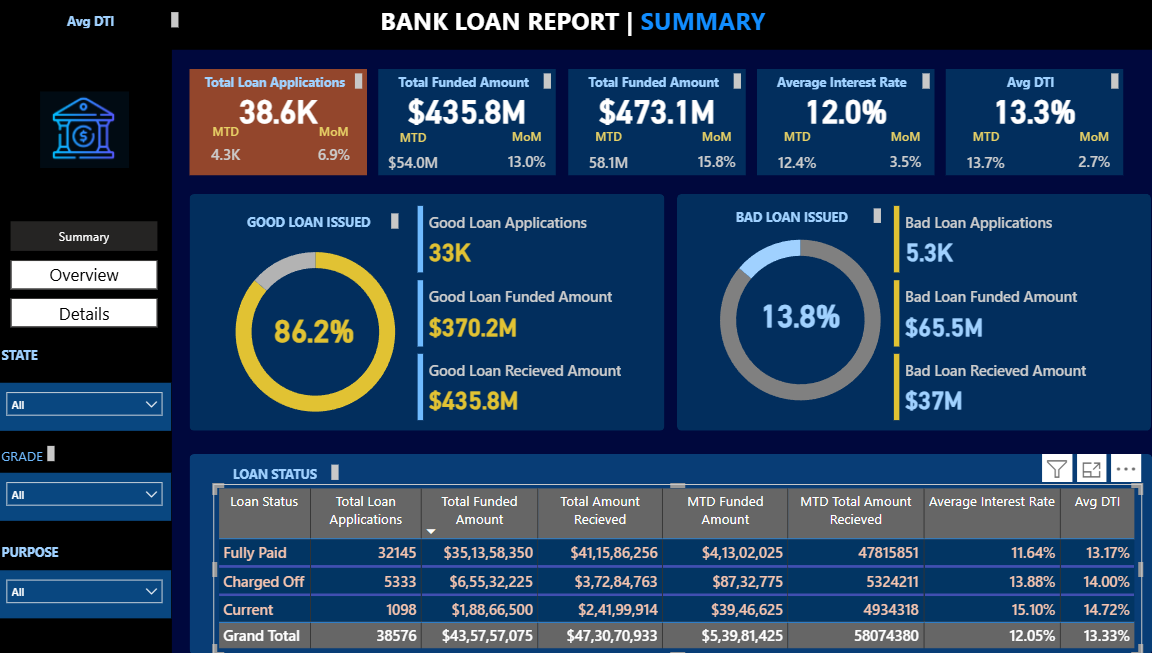

This screenshot's page, from the dashboard's own definition file:
{"tool":"powerbi","page":{"name":"Summary","canvas":[1280,720],"ordinal":0},"visuals":[{"type":"shape","box":[0,54.9,192.1,665.5],"z":0},{"type":"shape","box":[211.4,77.1,194.9,116.6],"z":0,"group":"g1"},{"type":"shape","box":[418.6,77.1,194.9,116.6],"z":0,"group":"g2"},{"type":"shape","box":[627.1,77.1,194.9,116.6],"z":0,"group":"g3"},{"type":"shape","box":[834.3,77.1,194.9,116.6],"z":0,"group":"g4"},{"type":"shape","box":[1041.4,77.1,194.9,116.6],"z":0,"group":"g5"},{"type":"card","fields":{"Values":["financial_loan.Total Loan Applications"]},"box":[211.4,92.2,194.9,57.6],"z":1000,"group":"g1"},{"type":"card","fields":{"Values":["financial_loan.Total Funded Amount"]},"box":[418.6,92.2,194.9,57.6],"z":1000,"group":"g2"},{"type":"card","fields":{"Values":["financial_loan.Total Amount Recieved"]},"box":[627.1,92.2,194.9,57.6],"z":1000,"group":"g3"},{"type":"card","fields":{"Values":["financial_loan.Average Interest Rate"]},"box":[834.3,92.2,194.9,57.6],"z":1000,"group":"g4"},{"type":"card","fields":{"Values":["financial_loan.Avg DTI"]},"box":[1041.4,92.2,194.9,57.6],"z":1000,"group":"g5"},{"type":"shape","box":[212,500,1058,220],"z":1000},{"type":"textbox","box":[211.4,77.1,194.9,27.4],"z":2000,"group":"g1"},{"type":"textbox","box":[418.6,77.1,194.9,27.4],"z":2000,"group":"g2"},{"type":"textbox","box":[627.1,77.1,194.9,27.4],"z":2000,"group":"g3"},{"type":"textbox","box":[834.3,77.1,194.9,27.4],"z":2000,"group":"g4"},{"type":"textbox","box":[1041.4,77.1,194.9,27.4],"z":2000,"group":"g5"},{"type":"shape","box":[211.4,214.3,521.4,260],"z":2000},{"type":"shape","box":[0,0,1280,55.7],"z":3000},{"type":"card","title":"MTD","fields":{"Values":["financial_loan.MTD Loan Applications"]},"box":[221,136.1,60.4,56.3],"z":3000,"group":"g1"},{"type":"card","title":"MTD","fields":{"Values":["financial_loan.MTD Total Amount Recieved"]},"box":[628.3,141.6,85.7,62.9],"z":3000,"group":"g3"},{"type":"card","title":"MTD","fields":{"Values":["financial_loan.MTD Avg Int Rate"]},"box":[835.5,141.6,85.7,62.9],"z":3000,"group":"g4"},{"type":"card","title":"MTD","fields":{"Values":["financial_loan.MTD Avg DTI"]},"box":[1042.6,141.6,85.7,62.9],"z":3000,"group":"g5"},{"type":"card","title":"MTD","fields":{"Values":["financial_loan.MTD Funded Amount"]},"box":[419.8,142.7,73.8,61.2],"z":3000,"group":"g2"},{"type":"card","title":"MoM","fields":{"Values":["financial_loan.MoM Loan Applications"]},"box":[344.5,136.1,50.8,56.3],"z":4000,"group":"g1"},{"type":"card","title":"MoM","fields":{"Values":["financial_loan.MoM Total Funded Amount"]},"box":[551.1,142.1,60,60],"z":4000,"group":"g2"},{"type":"card","title":"MoM","fields":{"Values":["financial_loan.MoM Total Amount Recieved"]},"box":[759.6,142.1,60,60],"z":4000,"group":"g3"},{"type":"card","title":"MoM","fields":{"Values":["financial_loan.MoM Avg Int Rate"]},"box":[966.8,142.1,60,60],"z":4000,"group":"g4"},{"type":"card","title":"MoM","fields":{"Values":["financial_loan.MoM Avg DTI"]},"box":[1173.9,142.1,60,60],"z":4000,"group":"g5"},{"type":"textbox","box":[237.1,505.7,142.9,27.1],"z":4000},{"type":"textbox","box":[10,10,194.9,27.4],"z":5000},{"type":"textbox","box":[0,375.7,68.6,28.6],"z":6000},{"type":"card","fields":{"Values":["financial_loan.Good Loan %"]},"box":[251.4,332.9,194.3,57.1],"z":7000},{"type":"textbox","box":[251.4,230,194.3,27.1],"z":8000},{"type":"textbox","box":[415.8,0,447.3,63.1],"z":9000},{"type":"group","id":"g1","title":"Group 1","box":[211.4,77.1,194.3,117.1],"z":10000},{"type":"group","id":"g2","title":"Group 1","box":[418.6,77.1,195.7,127.1],"z":11000},{"type":"group","id":"g3","title":"Group 1","box":[627.1,77.1,194.3,127.1],"z":12000},{"type":"group","id":"g4","title":"Group 1","box":[834.3,77.1,194.3,127.1],"z":13000},{"type":"group","id":"g5","title":"Group 1","box":[1041.4,77.1,194.3,127.1],"z":14000},{"type":"shape","box":[747.1,214.3,521.4,260],"z":15000},{"type":"donutChart","fields":{"Category":["financial_loan.Good vs Bad Loan"],"Y":["financial_loan.Total Loan Applications"]},"box":[224.6,250.7,249.3,229],"z":16000},{"type":"cardVisual","fields":{"Data":["financial_loan.Good Loan Applications","financial_loan.Good Loan Funded Amount","financial_loan.Good Loan Recieved Amount"]},"box":[456.5,221.7,276.8,246.4],"z":17000},{"type":"donutChart","fields":{"Category":["financial_loan.Good vs Bad Loan"],"Y":["financial_loan.Total Loan Applications"]},"box":[758,237.7,249.3,230.4],"z":18000},{"type":"textbox","box":[781.2,224.6,194.2,26.1],"z":19000},{"type":"card","fields":{"Values":["financial_loan.Bad Loan %"]},"box":[785.5,317.4,194.2,56.5],"z":20000},{"type":"cardVisual","fields":{"Data":["financial_loan.Bad Loan Applications","financial_loan.Bad Loan Funded Amount","financial_loan.Bad Loan Recieved Amount"]},"box":[979.7,221.7,276.8,246.4],"z":21000},{"type":"tableEx","fields":{"Values":["financial_loan.loan_status","financial_loan.Total Loan Applications","financial_loan.Total Funded Amount","financial_loan.Total Amount Recieved","financial_loan.MTD Funded Amount","financial_loan.MTD Total Amount Recieved","financial_loan.Average Interest Rate","financial_loan.Avg DTI"]},"box":[237.1,532.9,1020,187.1],"z":22000},{"type":"slicer","fields":{"Values":["financial_loan.address_state"]},"box":[0,421.4,191.4,52.9],"z":23000},{"type":"slicer","fields":{"Values":["financial_loan.grade"]},"box":[0,520,191.4,52.9],"z":24000},{"type":"textbox","box":[0,485.7,68.6,28.6],"z":25000},{"type":"slicer","fields":{"Values":["financial_loan.purpose"]},"box":[0,627.1,191.4,52.9],"z":26000},{"type":"textbox","box":[0,592.9,107.1,31.4],"z":27000},{"type":"pageNavigator","box":[15.1,244.3,161.9,116.6],"z":28000},{"type":"image","box":[42.5,91.9,107,102.9],"z":29000}]}

Visuals, with their boxes in screenshot pixels (x1, y1, x2, y2), scaled from the page's 1280x720 canvas onto the 1152x653 screenshot:
shape: 0 50 173 652
shape: 190 70 366 176
shape: 377 70 552 176
shape: 564 70 740 176
shape: 751 70 926 176
shape: 937 70 1113 176
card - financial_loan.Total Loan Applications: 190 84 366 136
card - financial_loan.Total Funded Amount: 377 84 552 136
card - financial_loan.Total Amount Recieved: 564 84 740 136
card - financial_loan.Average Interest Rate: 751 84 926 136
card - financial_loan.Avg DTI: 937 84 1113 136
shape: 191 453 1143 652
textbox: 190 70 366 95
textbox: 377 70 552 95
textbox: 564 70 740 95
textbox: 751 70 926 95
textbox: 937 70 1113 95
shape: 190 194 660 430
shape: 0 0 1151 51
"MTD" card: 199 123 253 174
"MTD" card: 565 128 643 185
"MTD" card: 752 128 829 185
"MTD" card: 938 128 1015 185
"MTD" card: 378 129 444 185
"MoM" card: 310 123 356 174
"MoM" card: 496 129 550 183
"MoM" card: 684 129 738 183
"MoM" card: 870 129 924 183
"MoM" card: 1057 129 1111 183
textbox: 213 459 342 483
textbox: 9 9 184 34
textbox: 0 341 62 367
card - financial_loan.Good Loan %: 226 302 401 354
textbox: 226 209 401 233
textbox: 374 0 777 57
"Group 1" group: 190 70 365 176
"Group 1" group: 377 70 553 185
"Group 1" group: 564 70 739 185
"Group 1" group: 751 70 926 185
"Group 1" group: 937 70 1112 185
shape: 672 194 1142 430
donutChart - financial_loan.Good vs Bad Loan x financial_loan.Total Loan Applications: 202 227 427 435
cardVisual - financial_loan.Good Loan Applications x financial_loan.Good Loan Funded Amount: 411 201 660 425
donutChart - financial_loan.Good vs Bad Loan x financial_loan.Total Loan Applications: 682 216 907 425
textbox: 703 204 878 227
card - financial_loan.Bad Loan %: 707 288 882 339
cardVisual - financial_loan.Bad Loan Applications x financial_loan.Bad Loan Funded Amount: 882 201 1131 425
tableEx - financial_loan.loan_status x financial_loan.Total Loan Applications: 213 483 1131 652
slicer - financial_loan.address_state: 0 382 172 430
slicer - financial_loan.grade: 0 472 172 520
textbox: 0 441 62 466
slicer - financial_loan.purpose: 0 569 172 617
textbox: 0 538 96 566
pageNavigator: 14 222 159 327
image: 38 83 135 177
